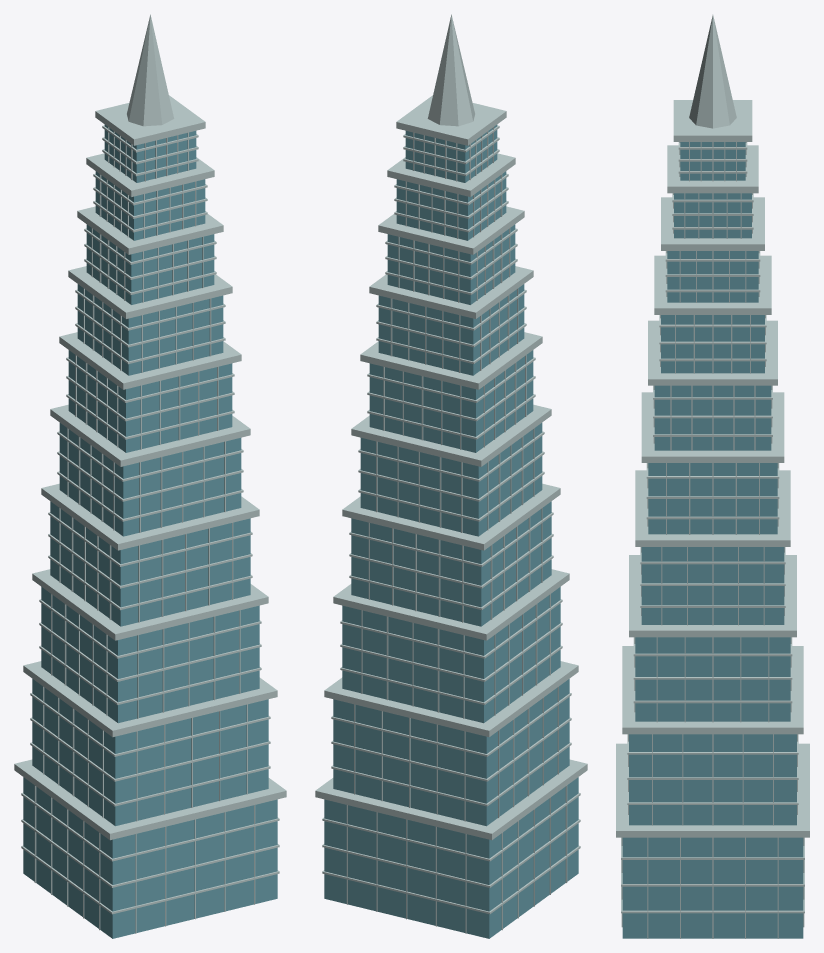
Rendered from jin-mao-tower.glb.
3 renders of one model, left to right at view 1: azimuth 30°, elevation 25°; view 2: azimuth 150°, elevation 25°; view 3: azimuth 270°, elevation 25°, orthographic.
Visible parts, largest first — view 1: jin-mao-tower; view 2: jin-mao-tower; view 3: jin-mao-tower.
Part boxes in pixels (x1=…): jin-mao-tower: x1=14, y1=14, x2=286, y2=938; jin-mao-tower: x1=315, y1=14, x2=587, y2=938; jin-mao-tower: x1=616, y1=15, x2=809, y2=938.
Bounding box in the file's own units: 89.21 × 420 × 83.63.
